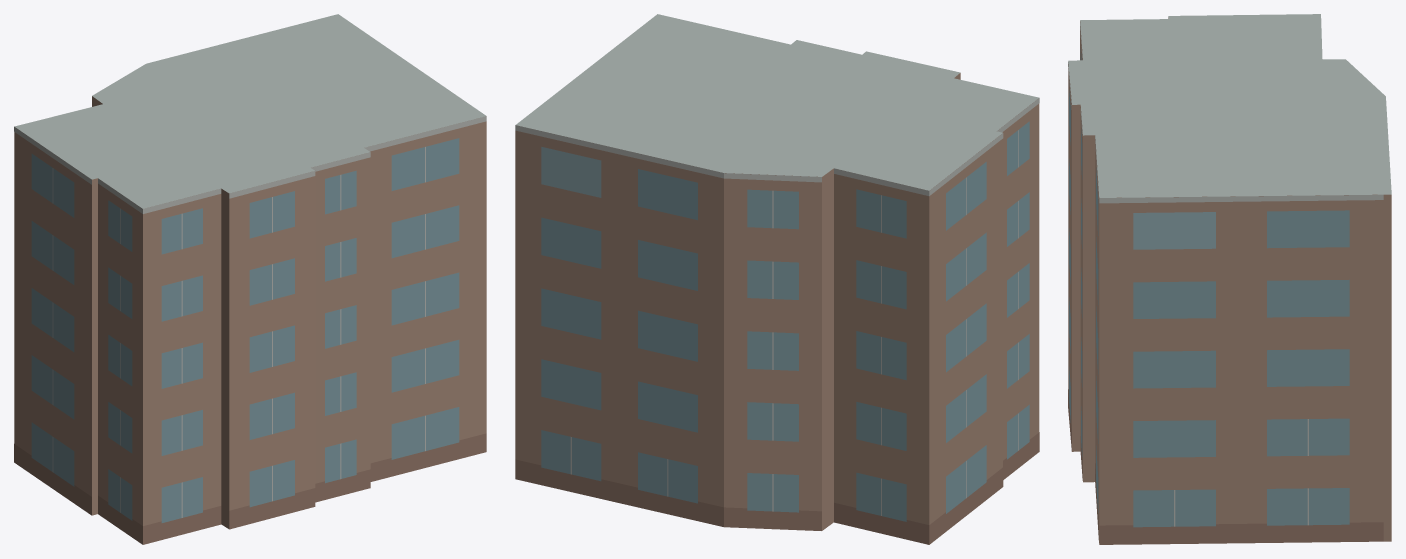
The model's file is survey-upis-32994056.glb.
3 renders of one model, left to right at view 1: azimuth 30°, elevation 25°; view 2: azimuth 150°, elevation 25°; view 3: azimuth 270°, elevation 25°, orthographic. The views are drawn at different scales.
Visible parts, largest first — view 1: survey-upis-32994056.tmp; view 2: survey-upis-32994056.tmp; view 3: survey-upis-32994056.tmp.
Part boxes in pixels (<box>): survey-upis-32994056.tmp: <box>14,14,486,544</box>; survey-upis-32994056.tmp: <box>515,14,1039,544</box>; survey-upis-32994056.tmp: <box>1068,14,1391,544</box>.
Bounding box in the file's own units: 17.87 × 15.7 × 13.28.
